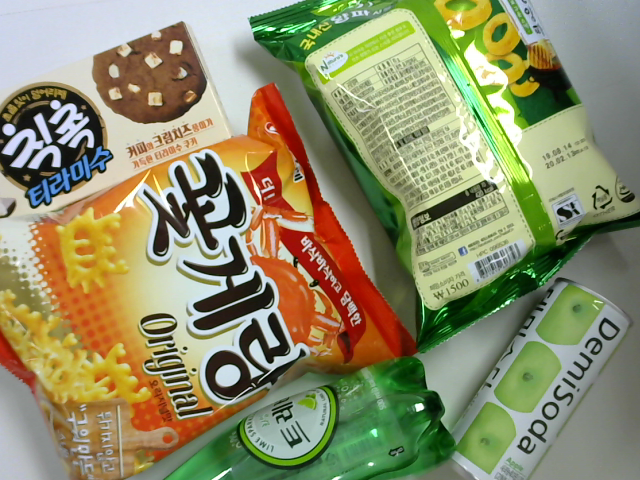Chicchok_Tiramisu: (3, 22, 235, 222)
Crabrang: (5, 86, 418, 480)
Demisoda_Apple_Can_250ml: (439, 282, 633, 480)
Grilled_Onions: (245, 4, 640, 353)
Treviraim_500ml: (153, 354, 449, 480)
